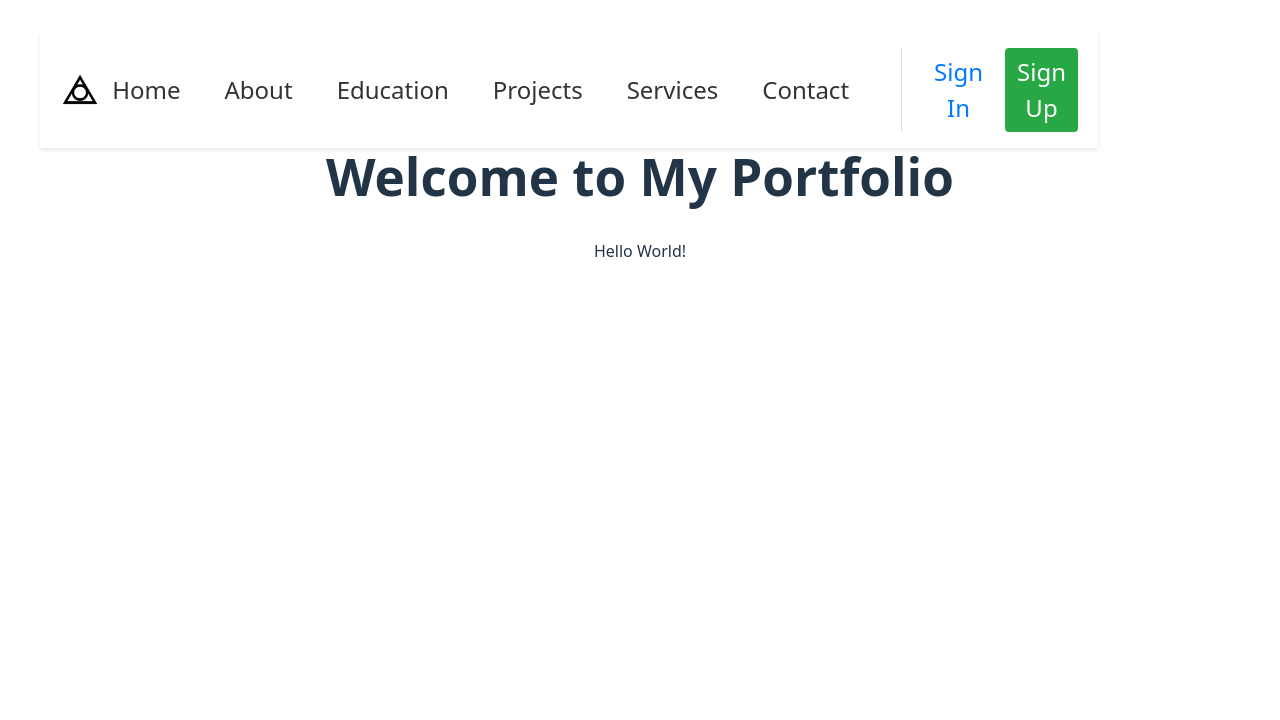
Portfolio Application E2E Tests › should navigate to About page
This screenshot has width=1280, height=720.
Click the link to "/about" at (259, 90), box [225,73,293,106]
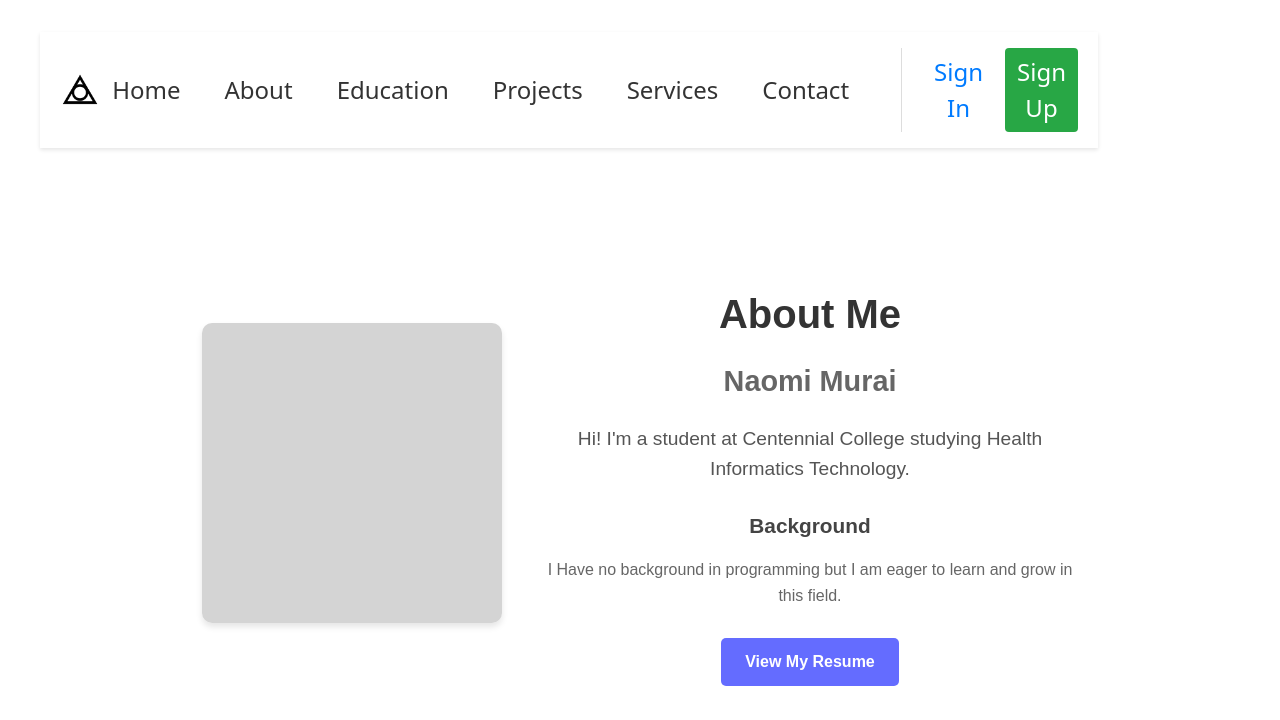
Expected: the heading "About Me" is shown, [719,292,901,336]
Expected: the heading "Naomi Murai" is shown, [724,365,896,397]
